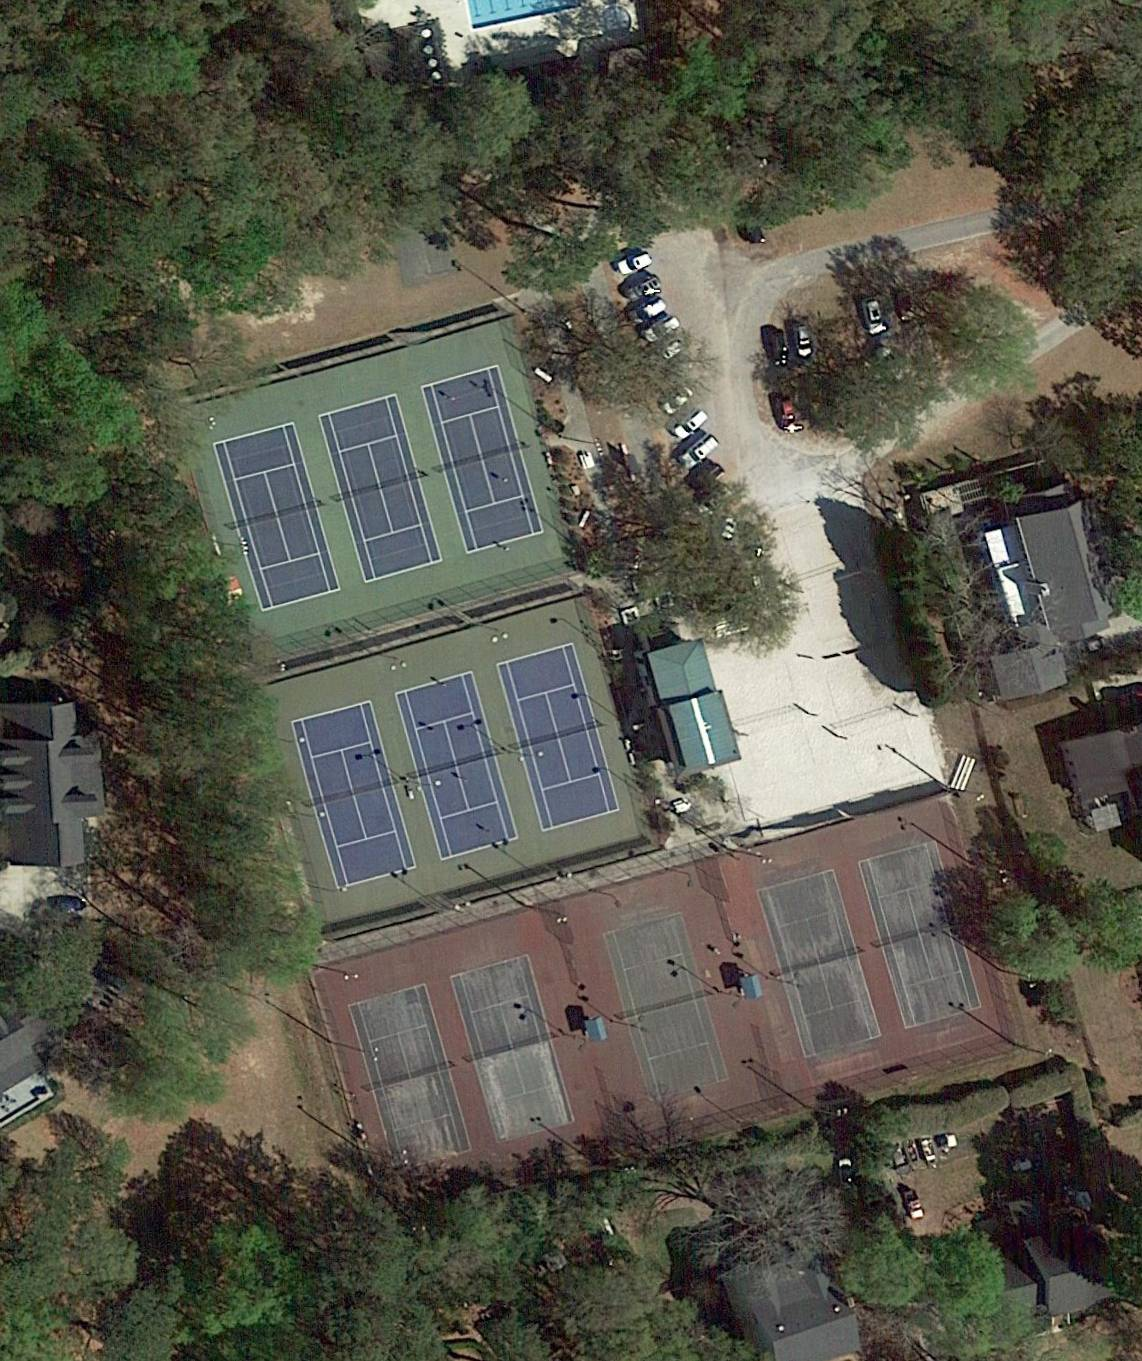small vehicle: (679, 431, 721, 473), (670, 406, 710, 446), (642, 313, 682, 348), (629, 295, 668, 330), (659, 382, 694, 419), (623, 274, 662, 306), (614, 248, 653, 278), (766, 329, 791, 371), (861, 298, 888, 335), (774, 393, 799, 432), (901, 1186, 927, 1223), (793, 323, 816, 360)
tennis court: (215, 423, 342, 612), (757, 869, 883, 1060), (291, 700, 418, 888), (451, 953, 576, 1145), (496, 643, 622, 832), (603, 912, 730, 1099), (319, 394, 444, 584), (858, 840, 982, 1028), (349, 984, 474, 1172), (420, 365, 544, 554), (395, 671, 519, 860)
